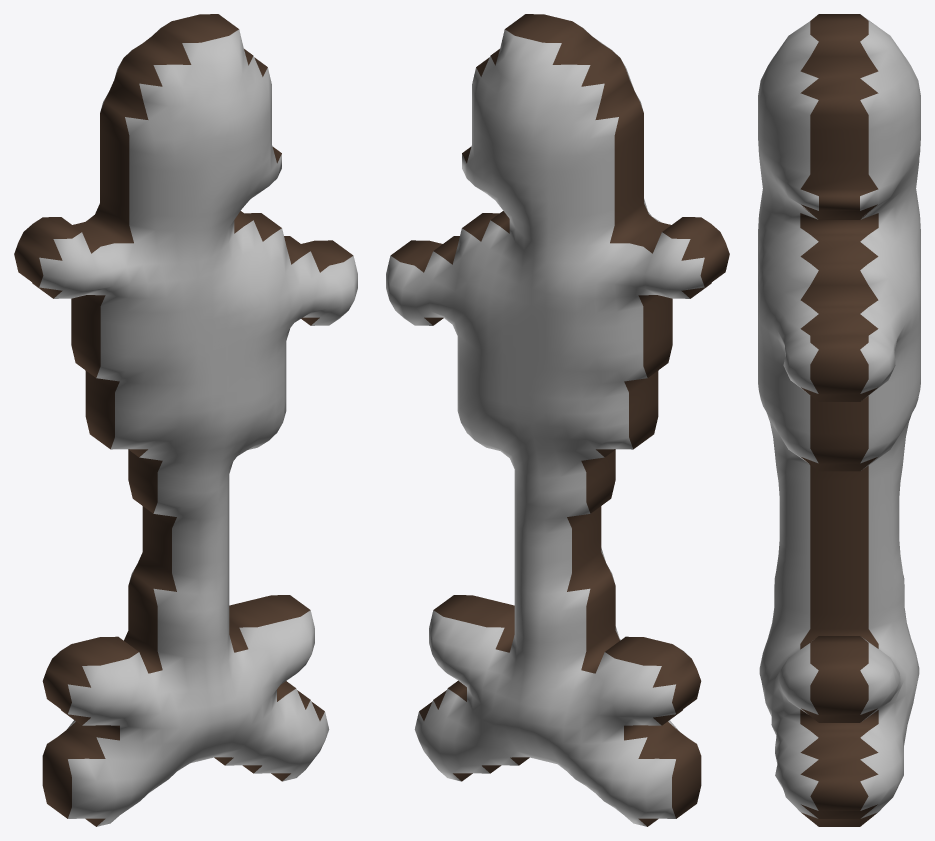
File: armor_stand.glb
3 renders of one model, left to right at view 1: azimuth 30°, elevation 25°; view 2: azimuth 150°, elevation 25°; view 3: azimuth 270°, elevation 25°, orthographic.
Visible parts, largest first — view 1: armor_stand; view 2: armor_stand; view 3: armor_stand.
Part boxes in pixels (x1=…): armor_stand: x1=14, y1=14, x2=357, y2=826; armor_stand: x1=386, y1=14, x2=729, y2=826; armor_stand: x1=758, y1=14, x2=920, y2=826.
Size of the model in its own units: 0.5077 by 1.18 by 0.2292.
